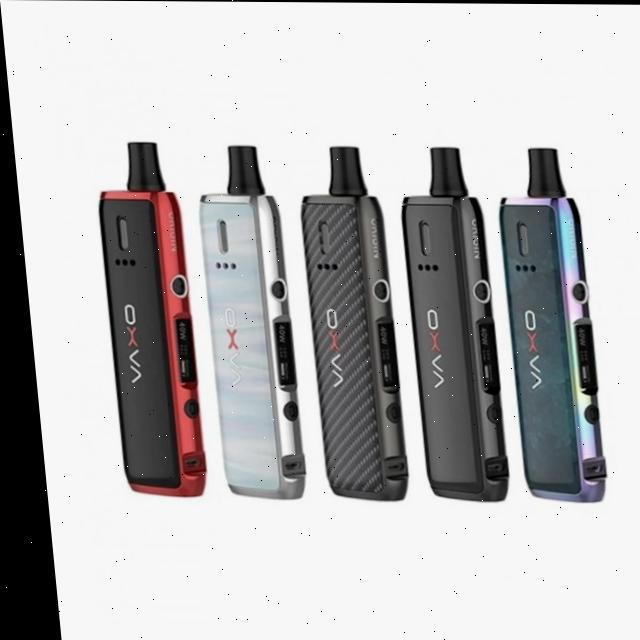vape: (390, 145, 503, 502), (489, 147, 602, 503), (89, 141, 201, 498), (188, 144, 300, 501), (290, 146, 402, 502)
